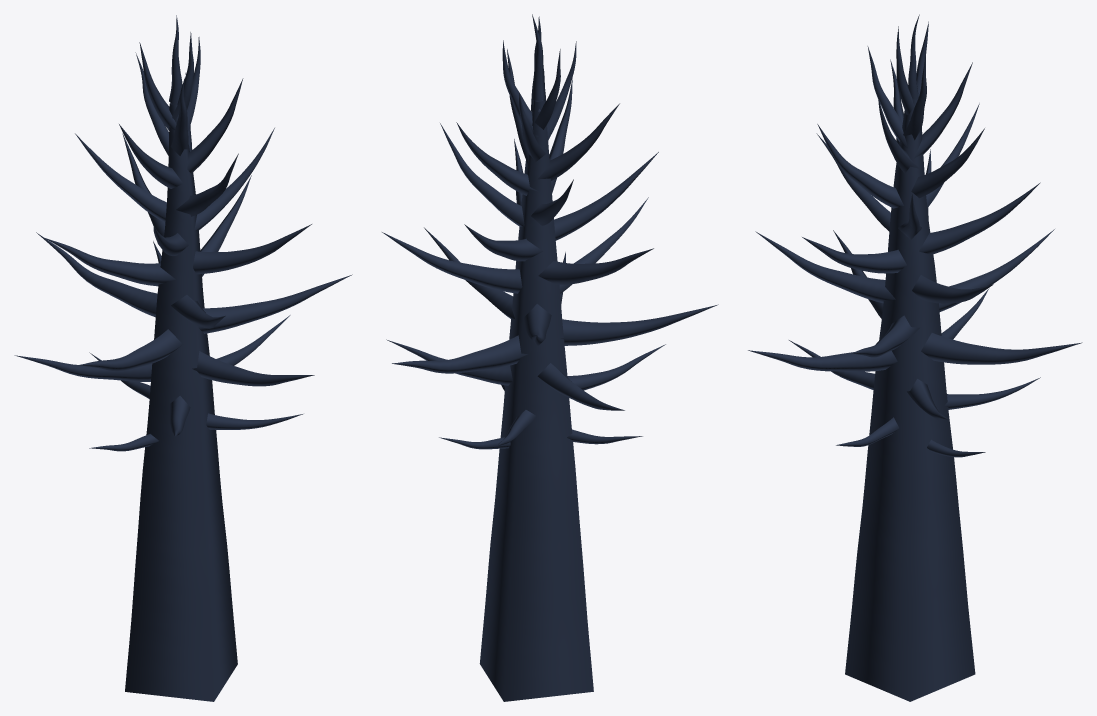
3 renders of one model, left to right at view 1: azimuth 30°, elevation 25°; view 2: azimuth 150°, elevation 25°; view 3: azimuth 270°, elevation 25°, orthographic.
Visible parts, largest first — view 1: tree1; view 2: tree1; view 3: tree1.
Part boxes in pixels (x1,y1,x2,y2): tree1: (14,15,352,701); tree1: (382,14,718,701); tree1: (748,14,1082,701).
Size of the model in its own units: 596 by 1327 by 612.
